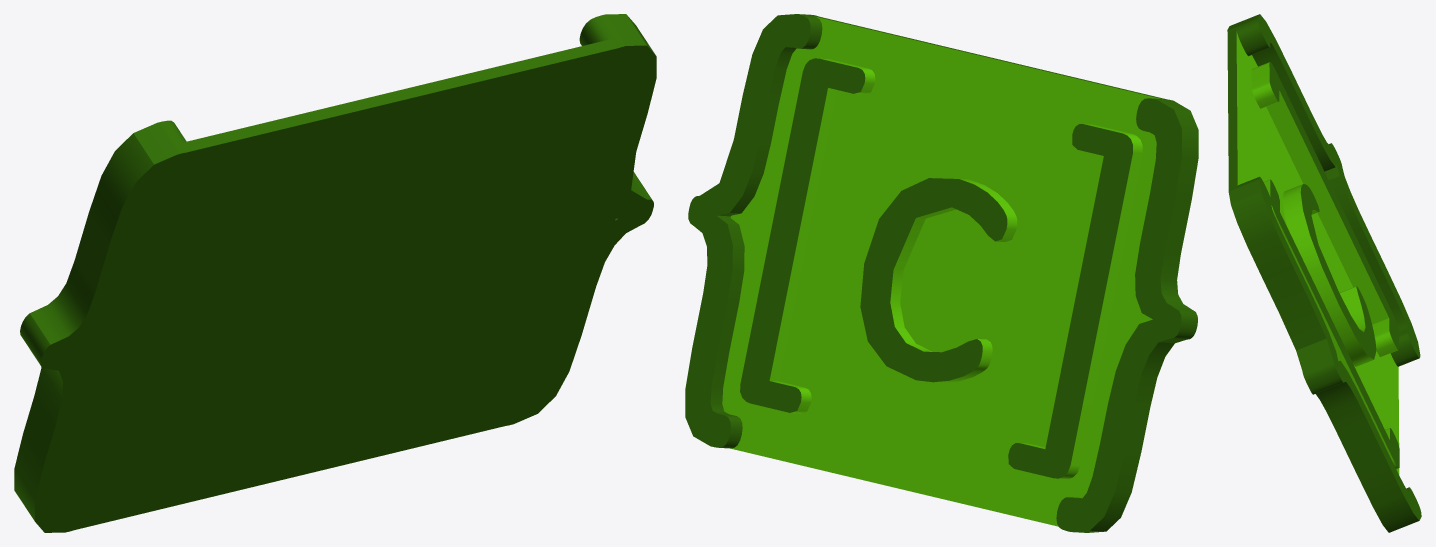
File: AST_c.fbx
3 renders of one model, left to right at view 1: azimuth 30°, elevation 25°; view 2: azimuth 150°, elevation 25°; view 3: azimuth 270°, elevation 25°, orthographic. The views are drawn at different scales.
Visible parts, largest first — view 1: MSH_text_c; view 2: MSH_text_c; view 3: MSH_text_c.
Part boxes in pixels (x1,y1,x2,y2): MSH_text_c: [14, 14, 656, 532]; MSH_text_c: [685, 14, 1198, 532]; MSH_text_c: [1227, 14, 1421, 532].
Size of the model in its own units: 8.3 by 6.17 by 3.09.
